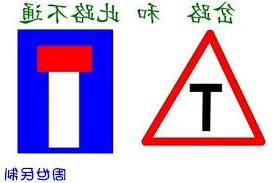fork_road: (142, 29, 266, 147)
